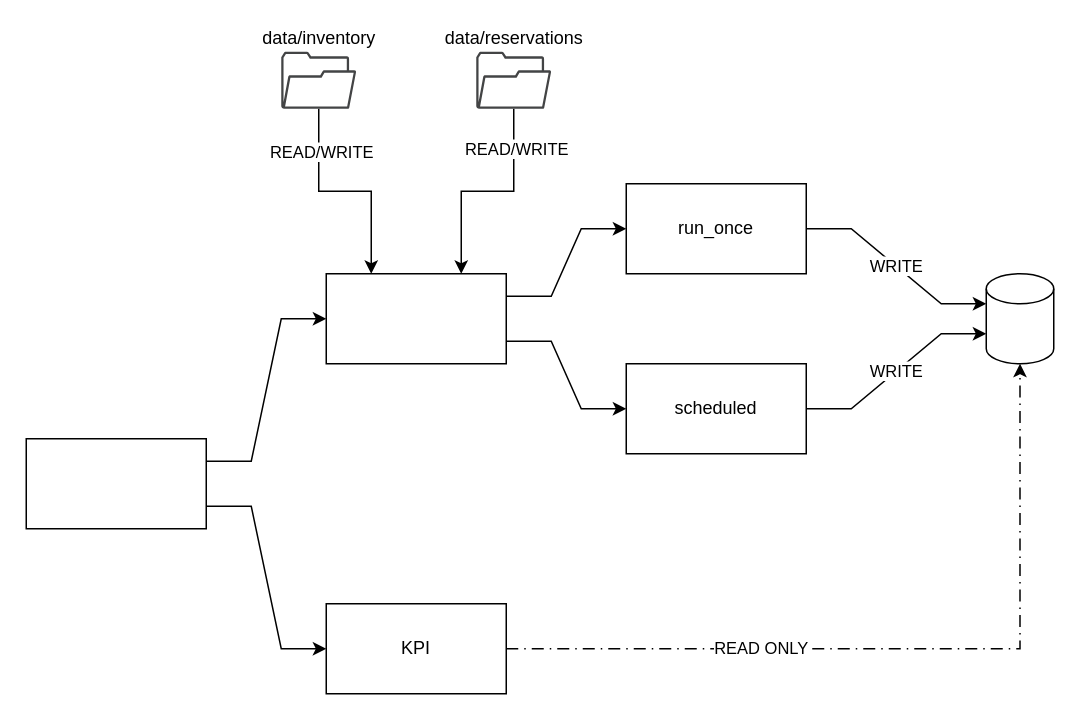
The diagram is 1080 pixels wide and 720 high, and some of its shapes have lost their labels. The shapes that lost their labels are listed below. From the top down, each one's box as (x1, y1, x2, y2) in pixels, then its label:
(325, 272, 506, 364): Ingestion Pipeline
(985, 272, 1054, 364): DB
(25, 437, 206, 529): CLI
